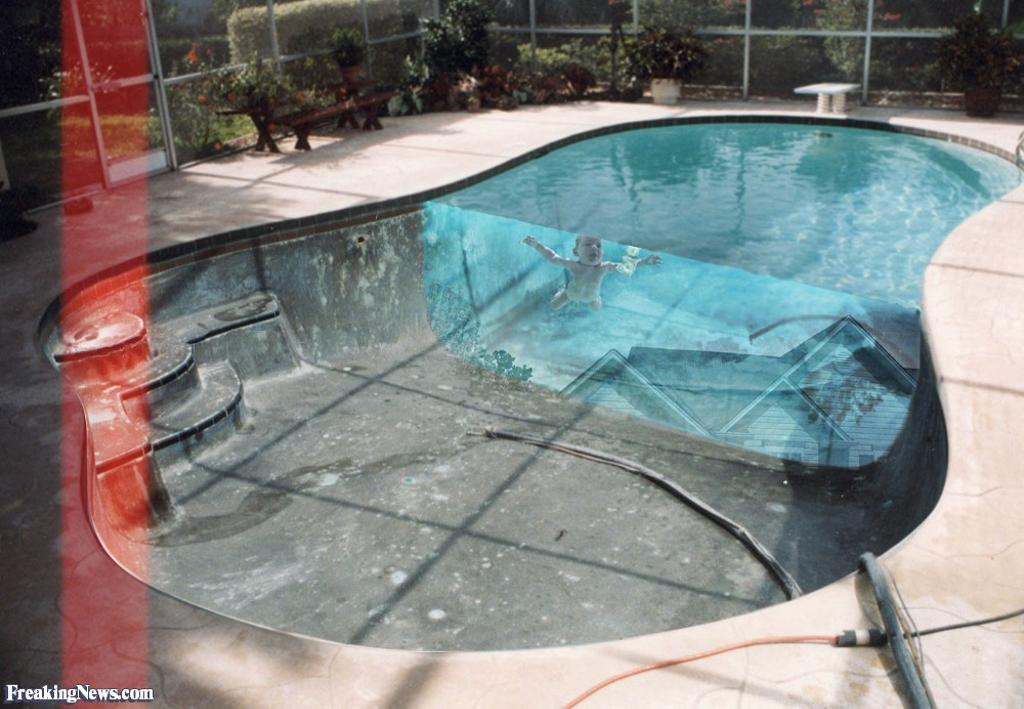face: (578, 234, 603, 266)
